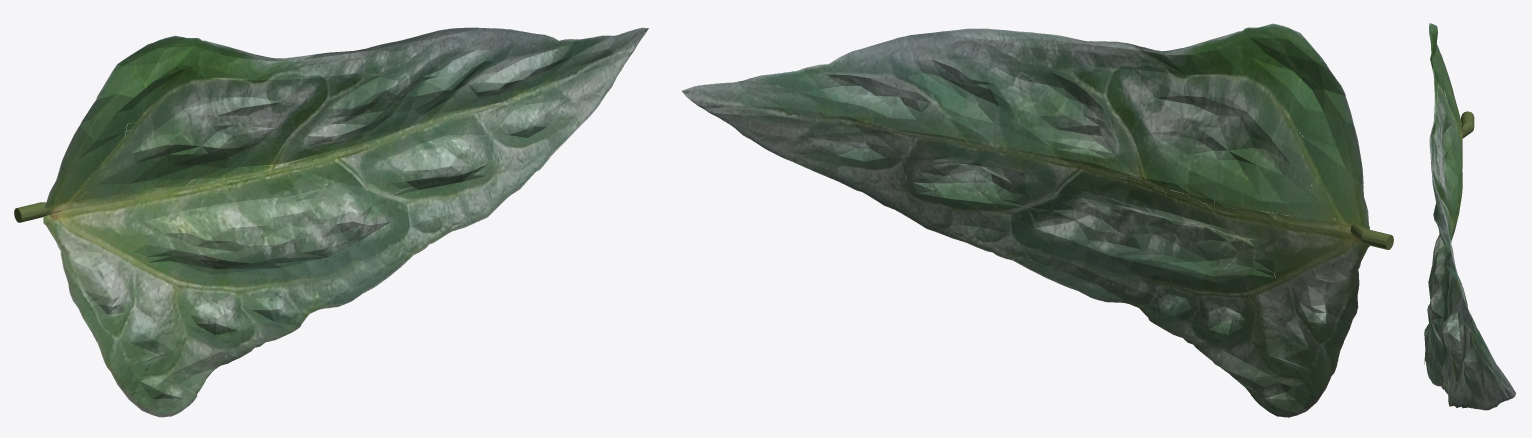
The model's file is CowpeaLeaf_tip_highres.obj.
The picture shows the model from 3 angles, left to right: view 1: azimuth 30°, elevation 25°; view 2: azimuth 150°, elevation 25°; view 3: azimuth 270°, elevation 25°; orthographic projection. The views are drawn at different scales.
Visible parts, largest first — view 1: leaf, veins; view 2: leaf, veins, petiolule; view 3: leaf, petiolule, veins.
Part boxes in pixels (x1=…): leaf: x1=43, y1=27, x2=648, y2=417; veins: x1=43, y1=83, x2=292, y2=285; leaf: x1=682, y1=23, x2=1369, y2=417; veins: x1=1126, y1=79, x2=1367, y2=296; petiolule: x1=1350, y1=224, x2=1393, y2=249; leaf: x1=1424, y1=23, x2=1515, y2=410; petiolule: x1=1461, y1=111, x2=1474, y2=138; veins: x1=1436, y1=79, x2=1462, y2=229.
Bounding box in the file's own units: 1.02 × 0.5753 × 0.1469.
